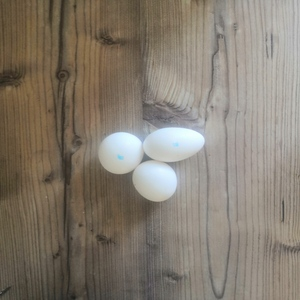white egg: (143, 127, 206, 163), (98, 131, 144, 176), (132, 159, 178, 202)
